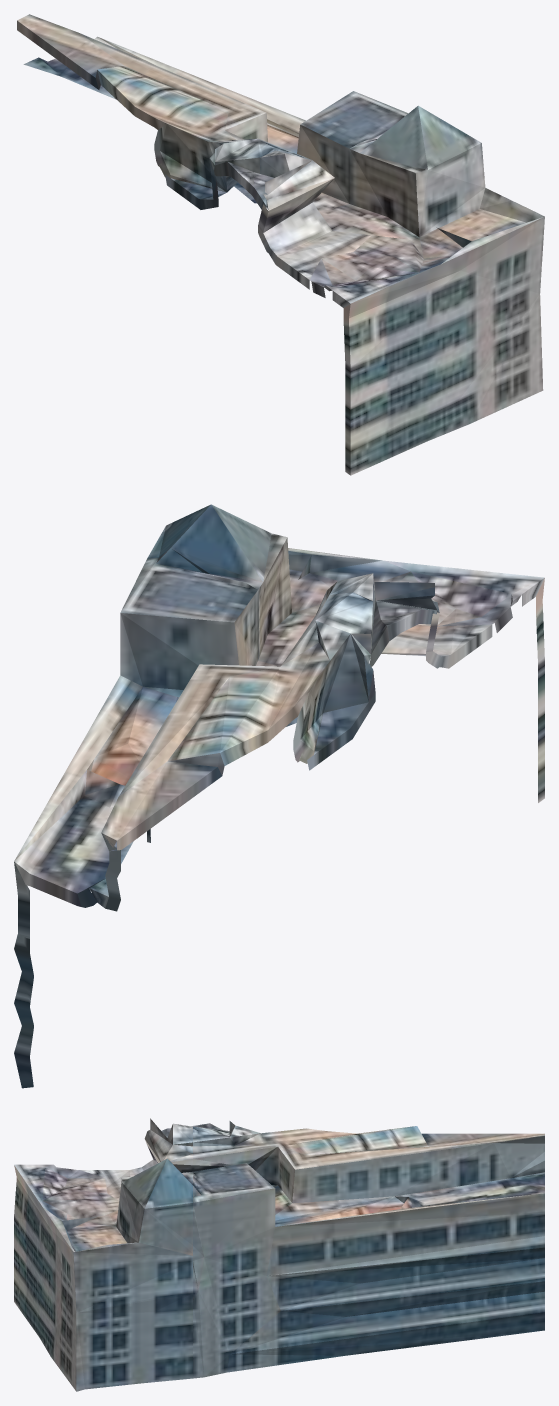
The model's file is chunk_7_-4.glb.
3 renders of one model, top to bottom at view 1: azimuth 30°, elevation 25°; view 2: azimuth 150°, elevation 25°; view 3: azimuth 270°, elevation 25°, orthographic. The views are drawn at different scales.
Parts seen in each view (by area): view 1: hero-chunk; view 2: hero-chunk; view 3: hero-chunk.
Boxes of the visible parts, x1=… form: hero-chunk: x1=17, y1=14, x2=544, y2=475; hero-chunk: x1=14, y1=504, x2=544, y2=1088; hero-chunk: x1=14, y1=1118, x2=544, y2=1391.
Size of the model in its own units: 23.4 by 24.73 by 57.55.
1 material, 1 textured.
